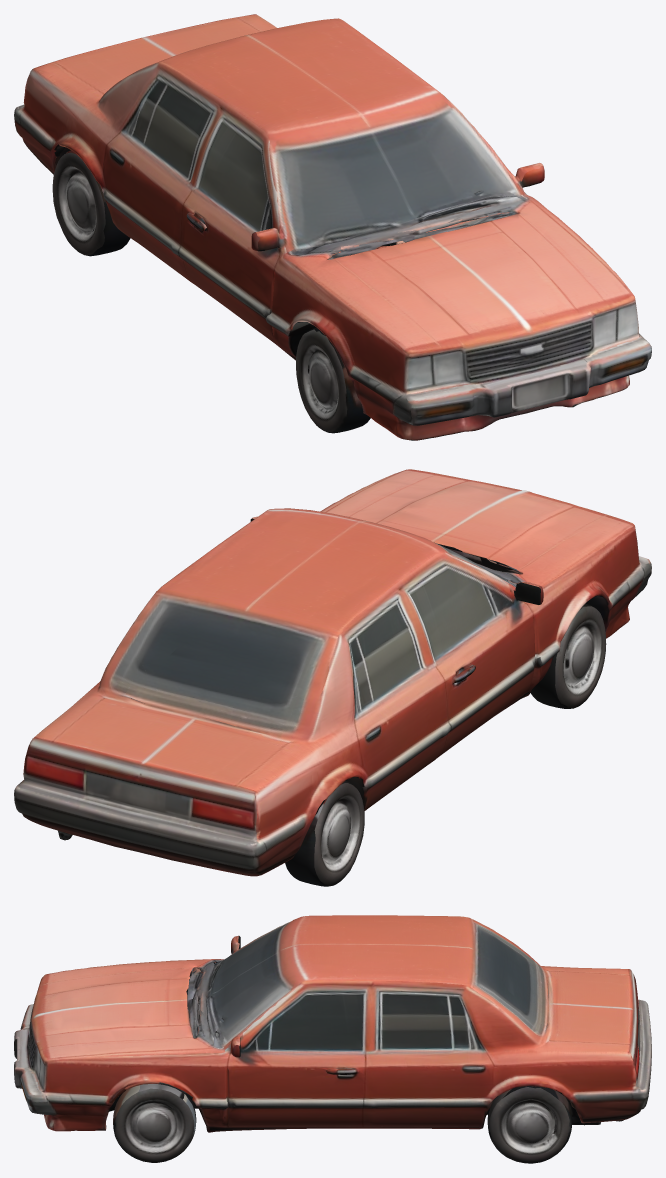
File: sloyd-sedan.glb
3 renders of one model, top to bottom at view 1: azimuth 30°, elevation 25°; view 2: azimuth 150°, elevation 25°; view 3: azimuth 270°, elevation 25°, orthographic. The views are drawn at different scales.
Visible parts, largest first — view 1: Sedan; view 2: Sedan; view 3: Sedan.
Part boxes in pixels (box(x1,y1,x2,y2)): Sedan: box(14, 14, 651, 440); Sedan: box(14, 469, 651, 886); Sedan: box(14, 915, 651, 1163).
Bounding box in the file's own units: 6.49 × 4.7 × 15.87.
1 material, 1 textured.
